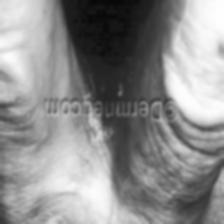Toxin: (80, 52, 125, 98)
